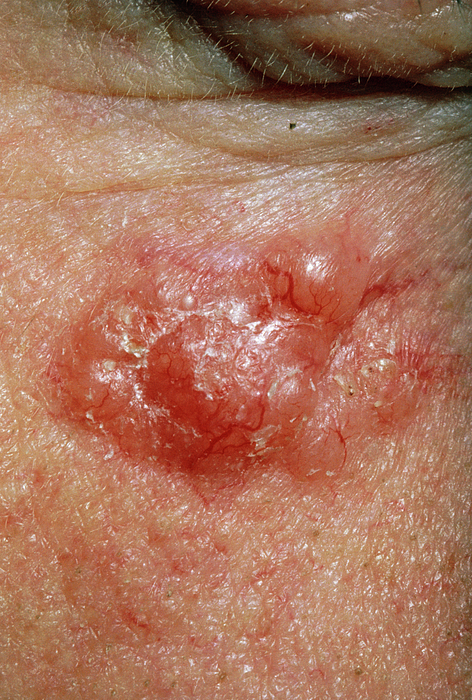Basa Cell Carcinoma: (18, 169, 472, 514)
